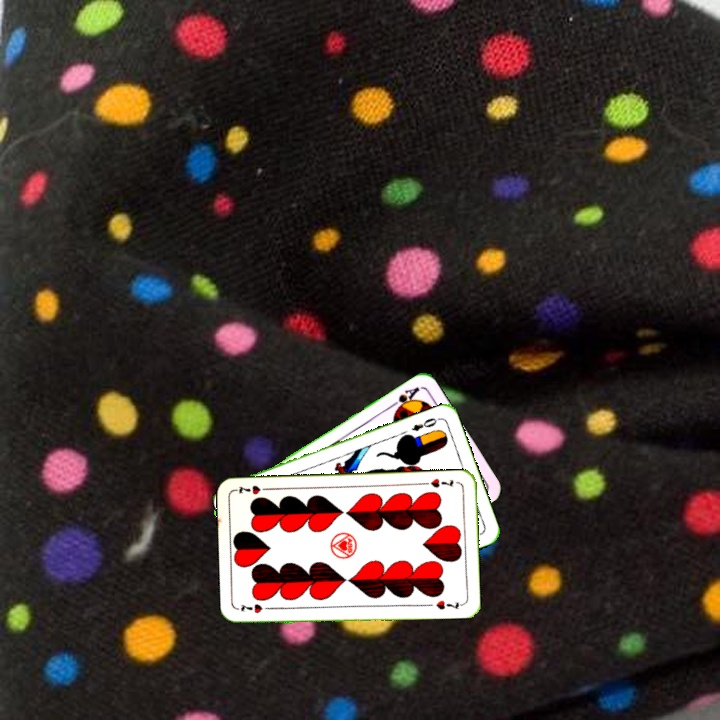EO: (408, 414, 442, 434)
H7: (237, 600, 276, 615), (420, 474, 456, 490)
SA: (386, 382, 422, 414)
